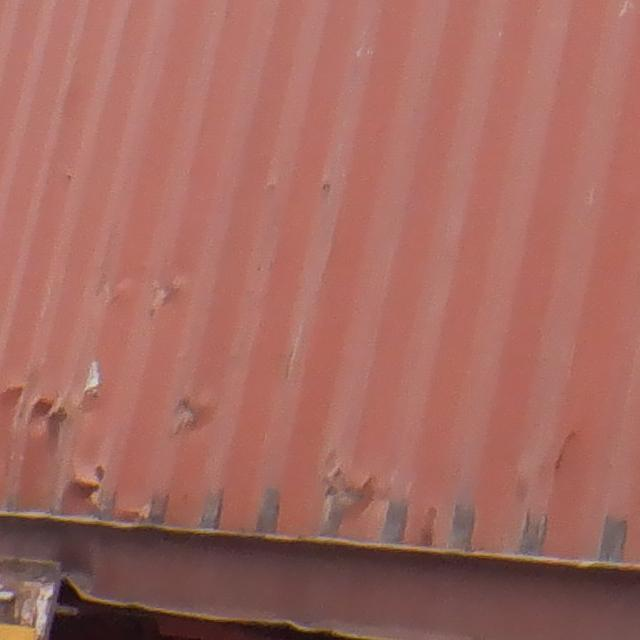dent: (272, 471, 402, 534), (2, 381, 80, 441), (57, 464, 123, 511)
